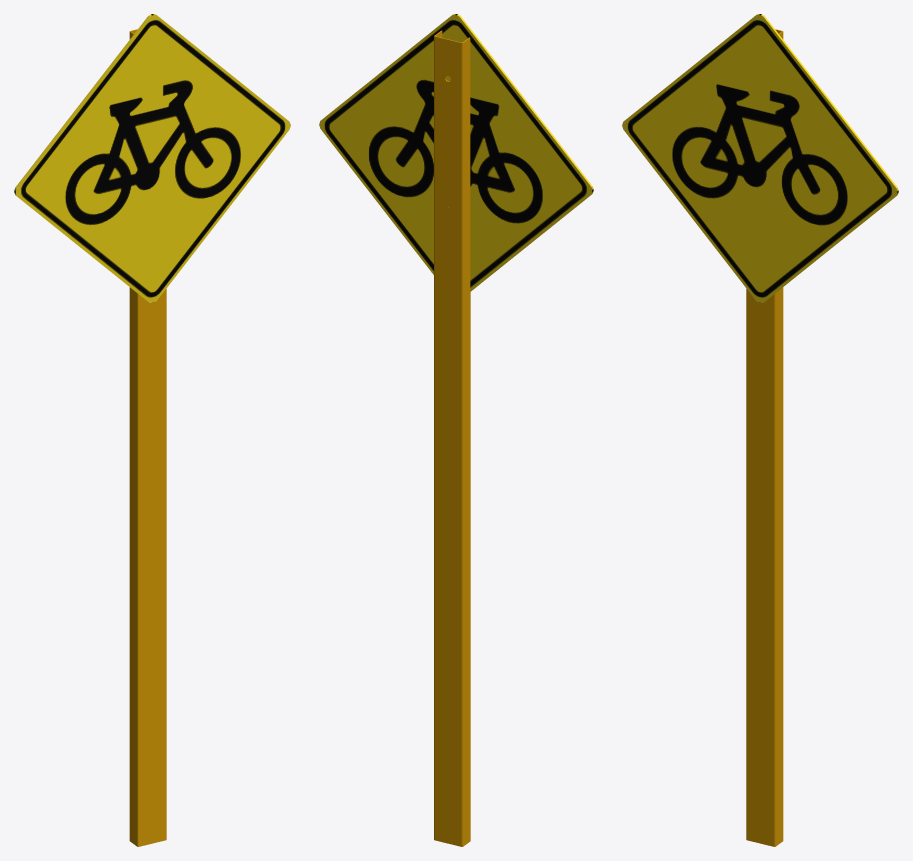
The model's file is bikes.fbx.
3 renders of one model, left to right at view 1: azimuth 30°, elevation 25°; view 2: azimuth 150°, elevation 25°; view 3: azimuth 330°, elevation 25°, orthographic.
Visible parts, largest first — view 1: Sign, Pipe; view 2: Sign, Pipe; view 3: Sign, Pipe.
Part boxes in pixels (left/top/right/bottom): Sign: left=14, top=14, right=290, bottom=302; Pipe: left=129, top=29, right=166, bottom=846; Sign: left=319, top=14, right=593, bottom=291; Pipe: left=434, top=30, right=470, bottom=846; Sign: left=622, top=14, right=898, bottom=302; Pipe: left=746, top=29, right=783, bottom=846.
Bounding box in the file's own units: 94.33 × 272 × 5.37.
Materials: 2 (1 with a texture image).
